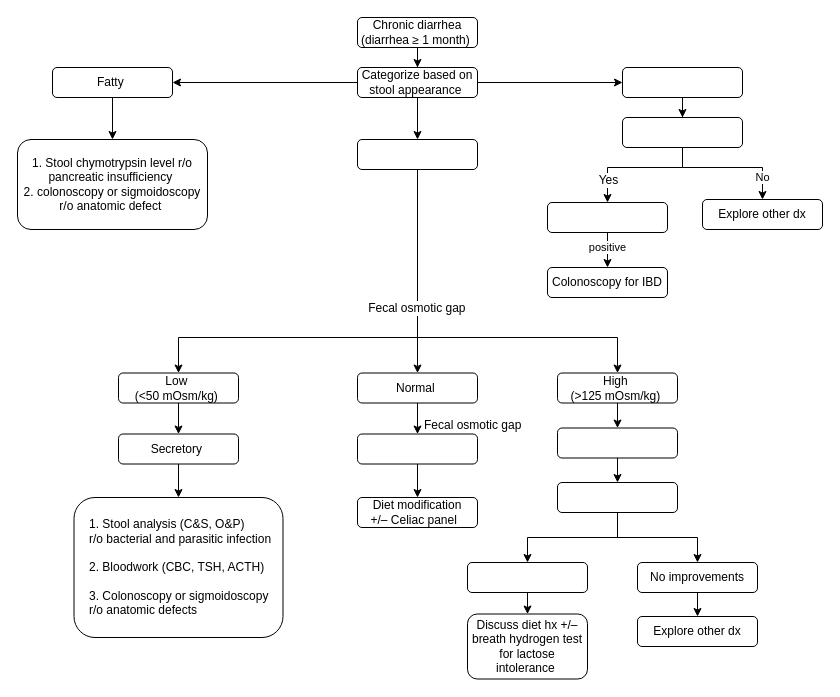
Image size: 840x697. Some labels were removed from this diagram. Each missing label, with the box of its shape:
Fecal calprotectin level: (546, 202, 668, 232)
Improves with fasting: (466, 562, 588, 592)
Inflammatory: (622, 66, 742, 98)
Osmotic: (556, 427, 678, 458)
Stool analysis (+) for blood, WBCs: (622, 116, 742, 148)
Suspect functional +/– IBS: (356, 433, 478, 464)
Trial of fasting: (556, 482, 678, 512)
Watery: (356, 138, 478, 170)
